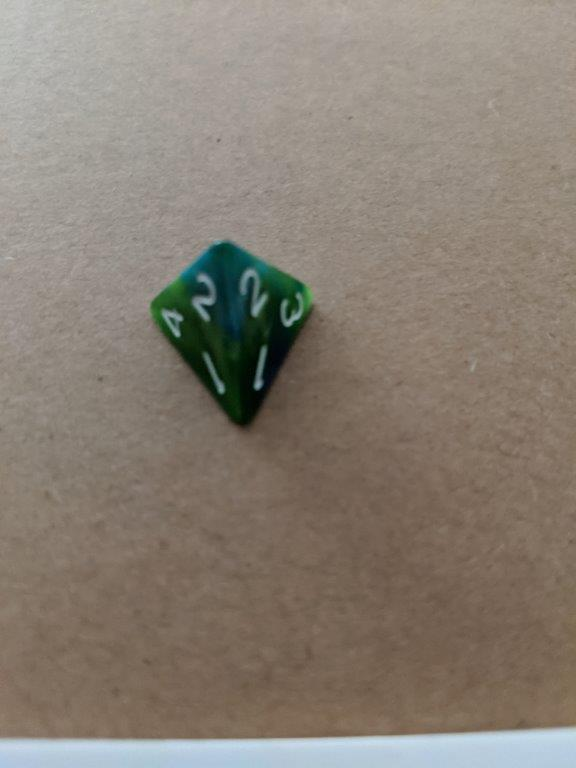d4-2: (148, 237, 321, 432)
